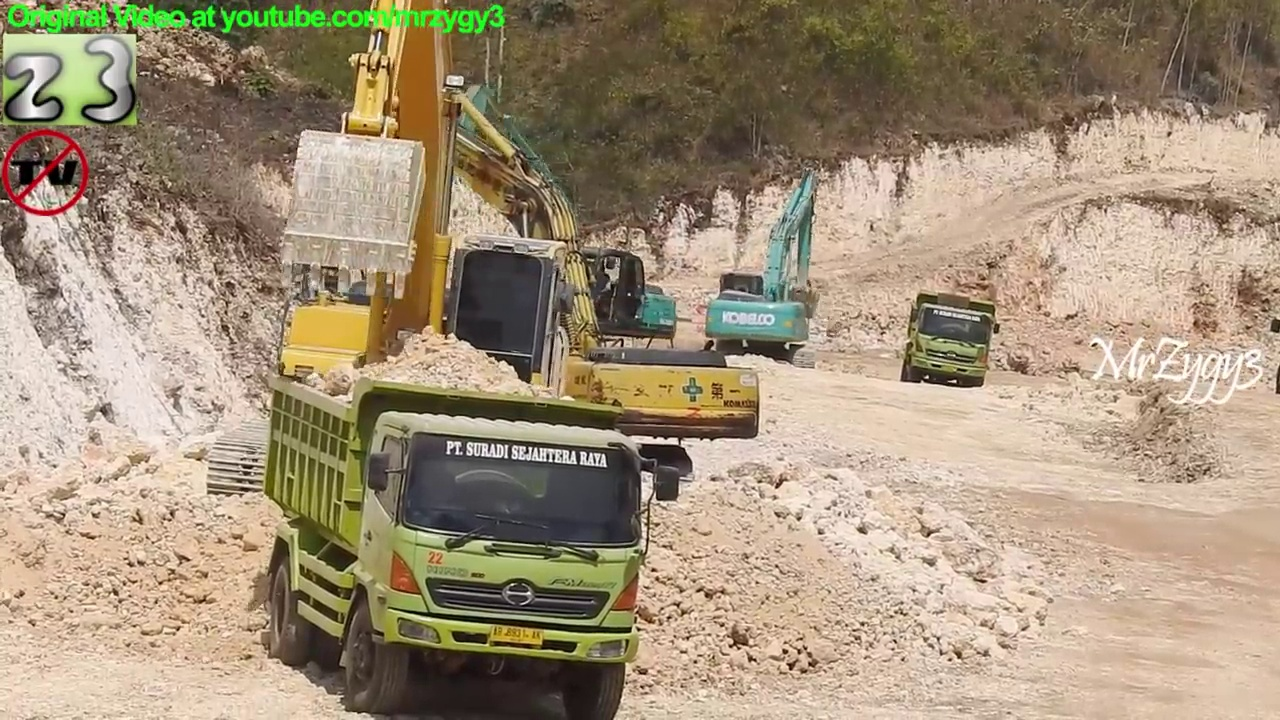excavator: (200, 1, 627, 513), (289, 65, 764, 516), (400, 79, 698, 437), (693, 164, 826, 375)
truck: (258, 364, 686, 720), (902, 289, 1002, 396)
